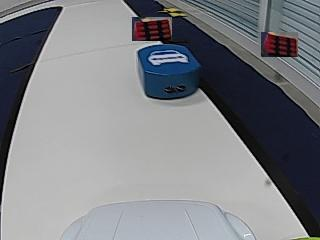safety: (148, 50, 189, 65)
